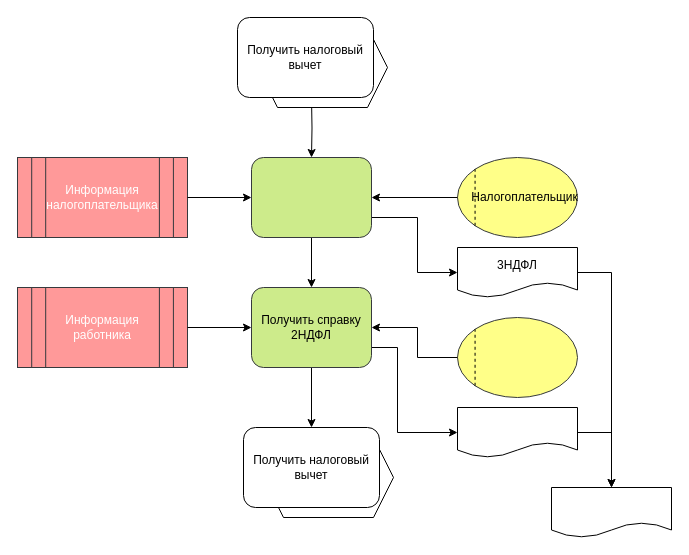
Image size: 689x555. Some labels were removed from this diagram. The shapes that lost their labels are listed below. From the top down, each one's box as (x1, y1, x2, y2) in pixels, then its label:
(250, 156, 372, 238): Получить налоговую декларацию 3НДФЛ
(456, 316, 578, 398): Бухгалтерия по месту работы
(456, 406, 578, 458): 2НДФЛ
(550, 486, 672, 538): Справки
